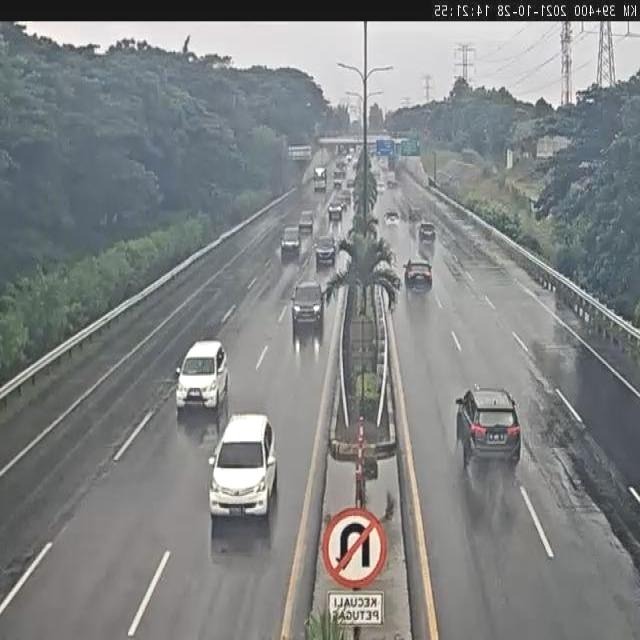Bus: (312, 166, 328, 192)
Car: (208, 413, 278, 522), (454, 385, 524, 471), (176, 338, 230, 412), (289, 277, 326, 329), (403, 259, 434, 295), (279, 225, 302, 259), (314, 234, 337, 266), (298, 208, 315, 233), (419, 222, 437, 243), (327, 201, 343, 220), (338, 188, 351, 207), (384, 210, 400, 225), (408, 205, 422, 222), (376, 182, 386, 195), (333, 175, 342, 189), (346, 176, 355, 188), (372, 170, 382, 178)
Truck: (333, 160, 347, 178), (384, 170, 396, 187)
